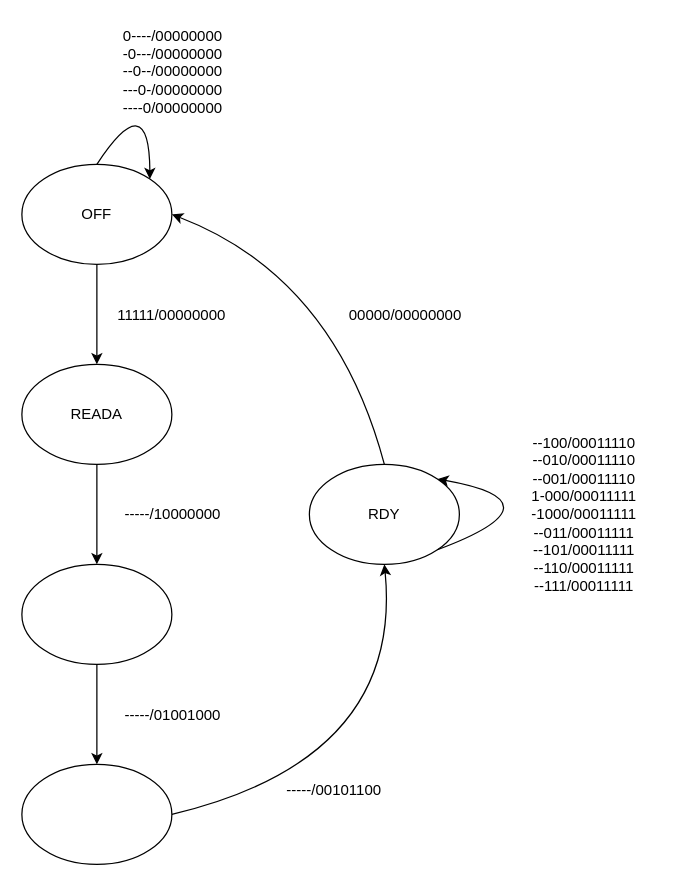
The diagram is 675 pixels wide and 886 high, and some of its shapes have lost their labels. Here are the shapes that lost their labels. From the top down, the box of each, then its label:
(21, 563, 172, 664): READB
(21, 763, 172, 864): READC
